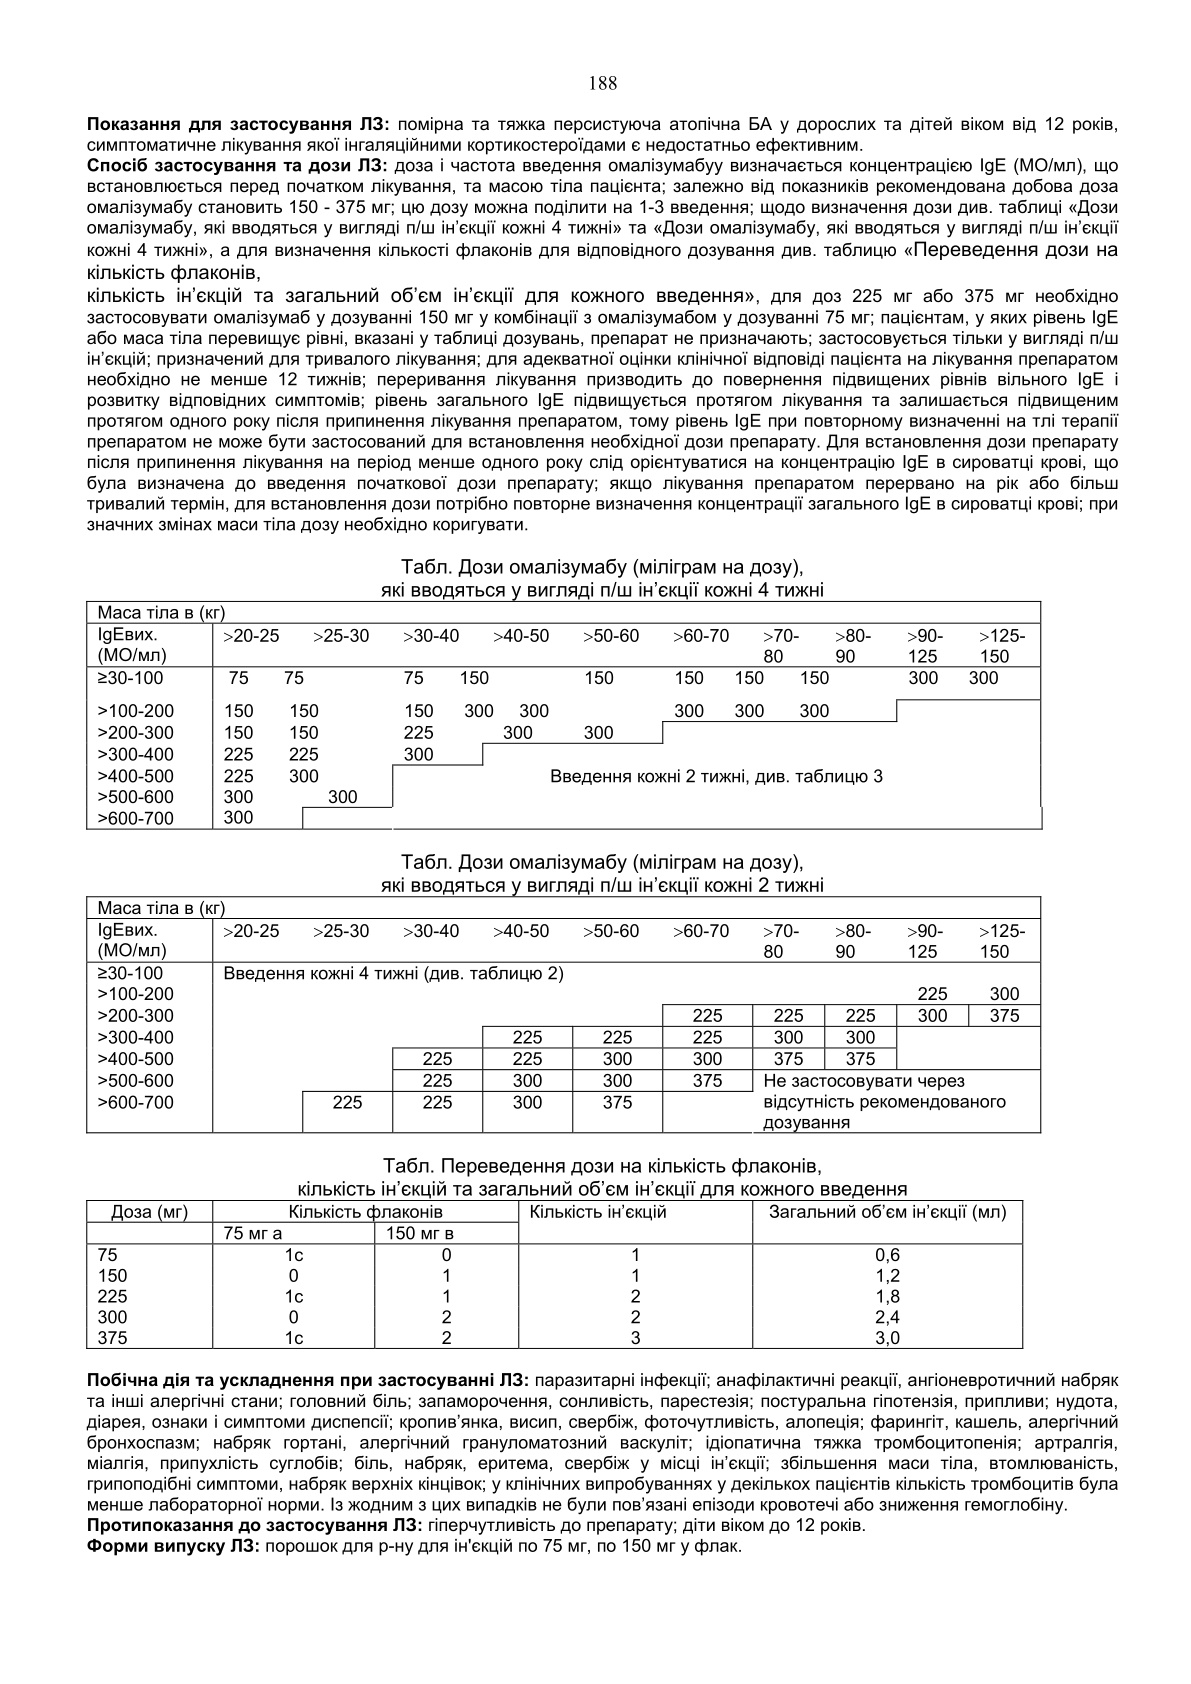merged_cells: (85, 1200, 1023, 1350)
partial_lined_merged_cells: (85, 895, 1041, 1134), (86, 600, 1044, 831)
